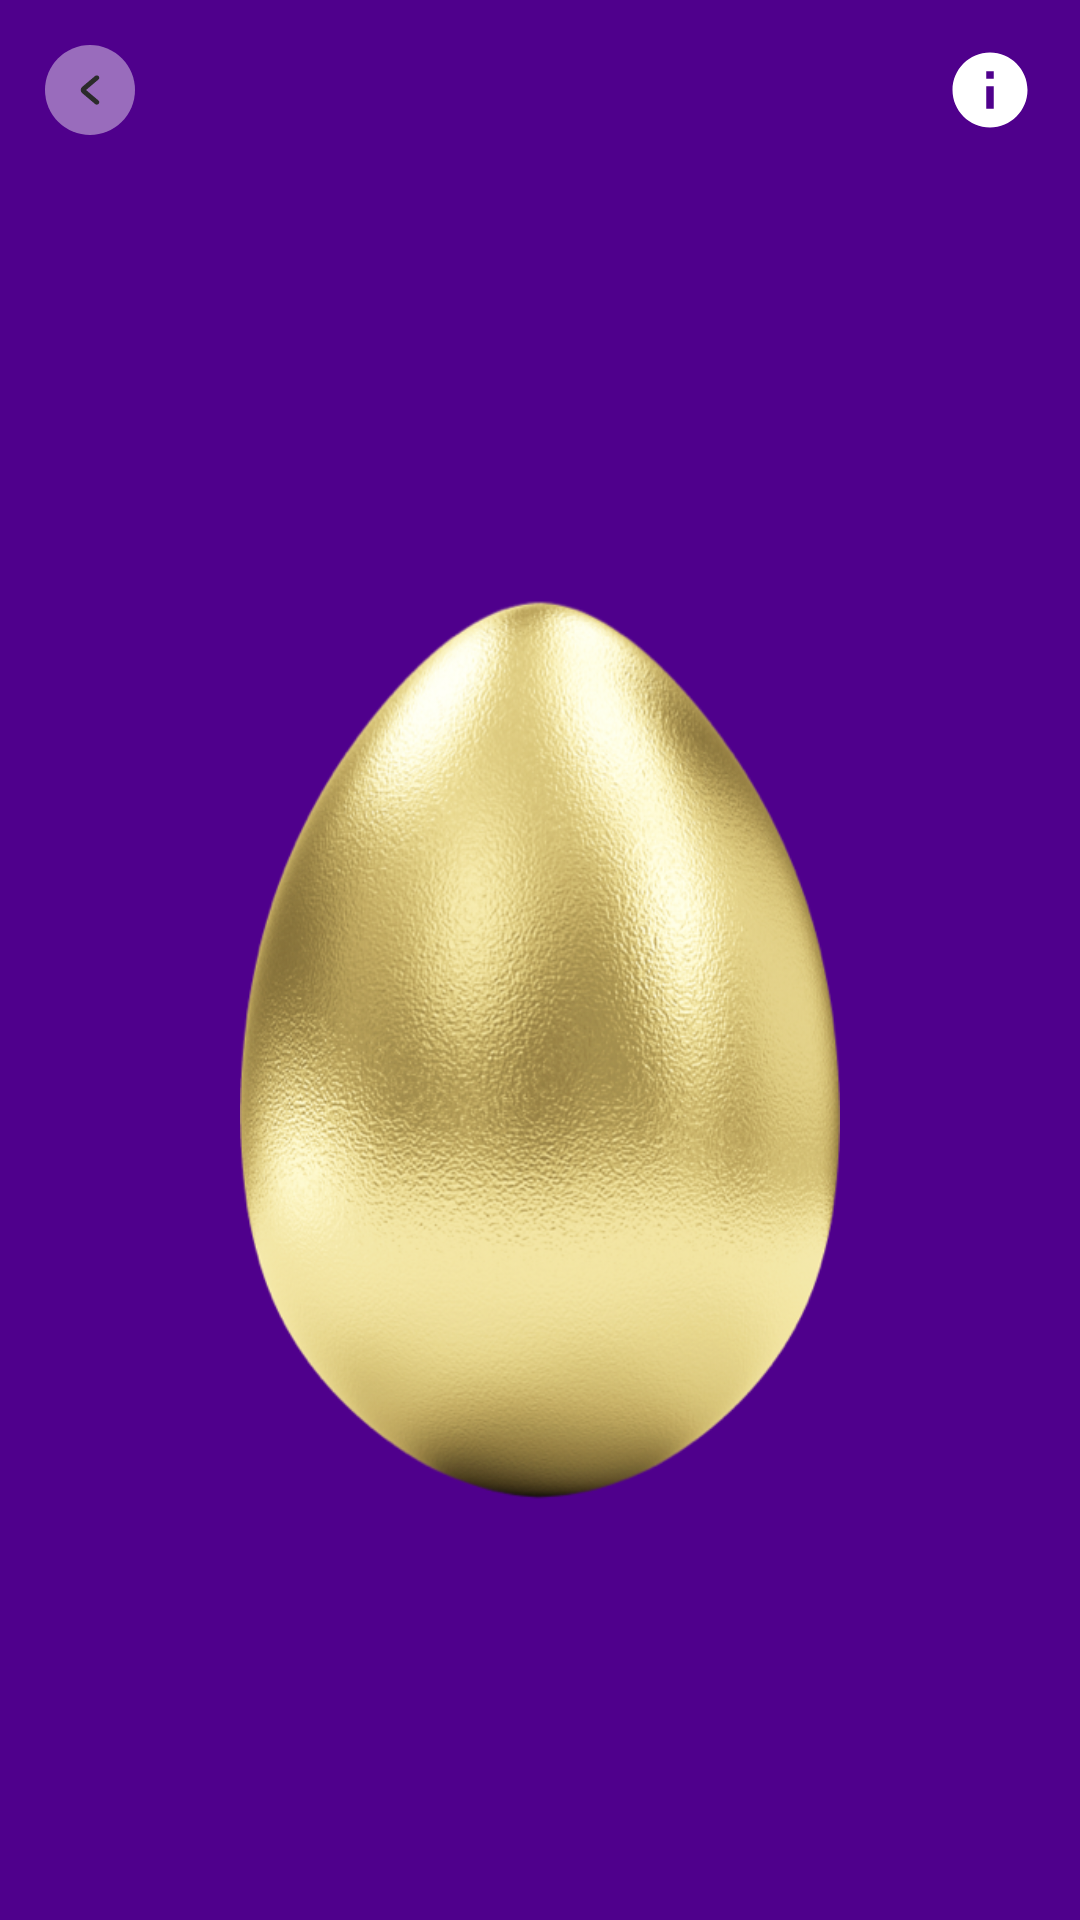

Locate icon controls on the screen. Image size 1080*1920, boxes as (x1,y1,x2,y2).
back: (45,45,135,135)
info: (952,52,1028,128)
